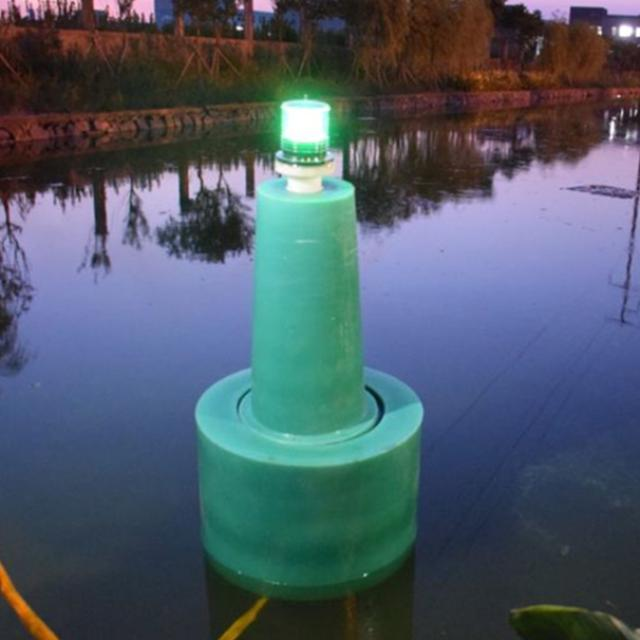buoy: (189, 90, 440, 586)
